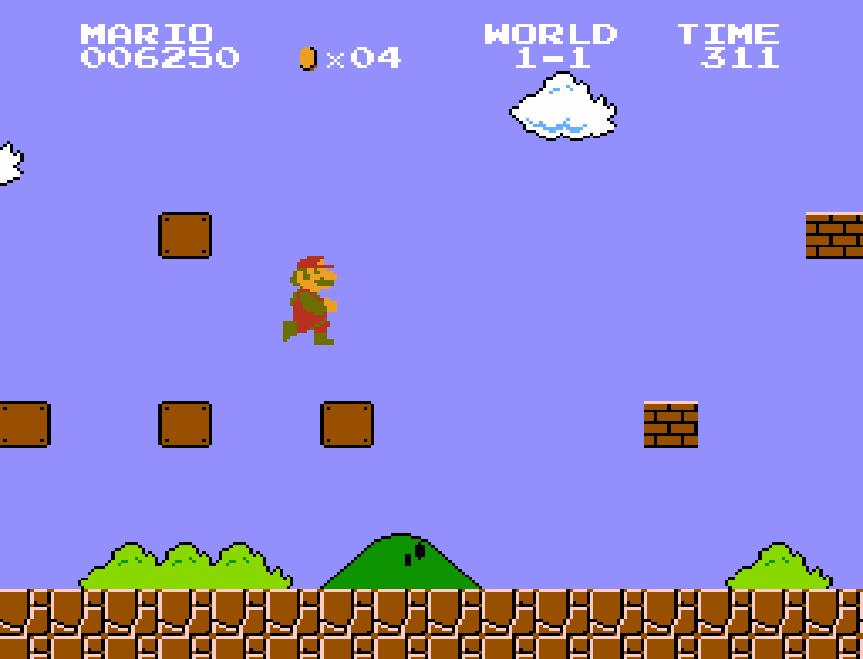big_mario: (280, 248, 338, 346)
